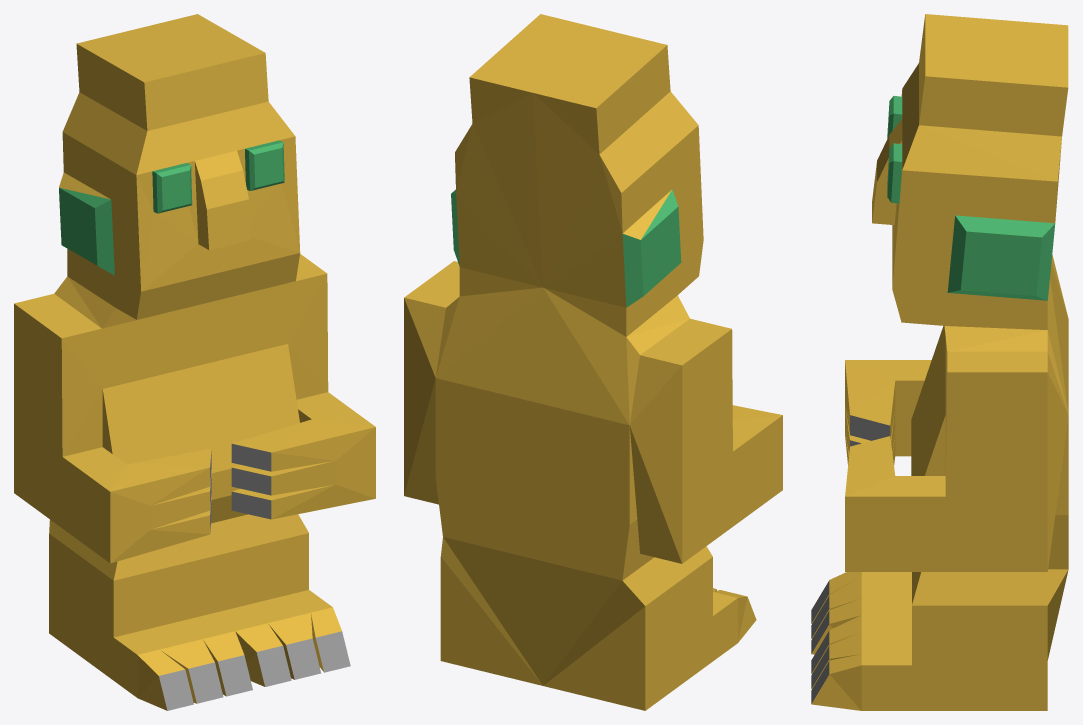
Rendered from Idol.fbx.
3 renders of one model, left to right at view 1: azimuth 30°, elevation 25°; view 2: azimuth 150°, elevation 25°; view 3: azimuth 270°, elevation 25°, orthographic. The views are drawn at different scales.
Parts seen in each view (by area): view 1: Cube.009; view 2: Cube.009; view 3: Cube.009.
Part boxes in pixels (bbox=[...]): Cube.009: bbox=[14, 14, 375, 710]; Cube.009: bbox=[404, 14, 782, 710]; Cube.009: bbox=[811, 14, 1068, 710].
Bounding box in the file's own units: 643 × 1351 × 512.
